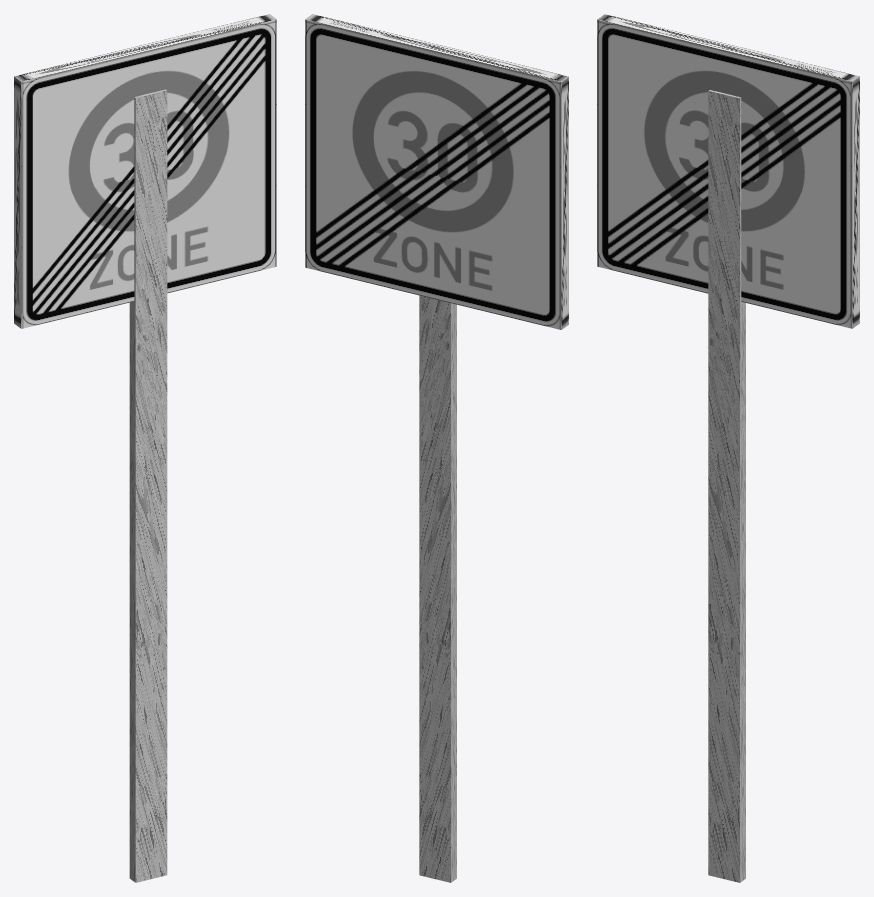
Rendered from CancelSpeedLimit.obj.
The picture shows the model from 3 angles, left to right: view 1: azimuth 30°, elevation 25°; view 2: azimuth 150°, elevation 25°; view 3: azimuth 330°, elevation 25°; orthographic projection.
Parts seen in each view (by area): view 1: Cube_Cube.001, STOPALLM_1; view 2: Cube_Cube.001, STOPALLM_1; view 3: Cube_Cube.001, STOPALLM_1.
Boxes of the visible parts, box(x1,y1,x2,y2) form: Cube_Cube.001: box(14, 14, 276, 328); STOPALLM_1: box(129, 89, 167, 882); Cube_Cube.001: box(305, 14, 568, 329); STOPALLM_1: box(419, 295, 456, 882); Cube_Cube.001: box(597, 14, 859, 328); STOPALLM_1: box(708, 90, 745, 882).
Bounding box in the file's own units: 4.41 × 13.65 × 0.2659.
2 materials, 2 textured.
